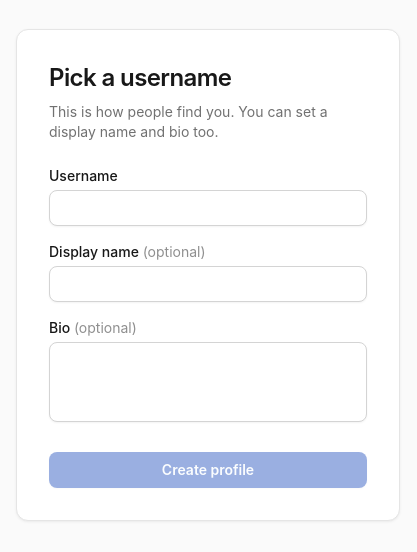
Test: the 'taken' message clears as soon as the user edits the username
Type "ada_lovelace" into the field labelled "Username".
click(208, 208); type("ada_lovelace")  # box [49,190,367,226]
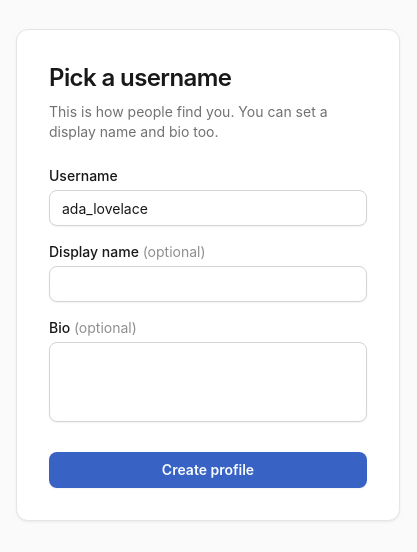
Click the button "Create profile".
click(208, 470)  # box [49,452,367,488]
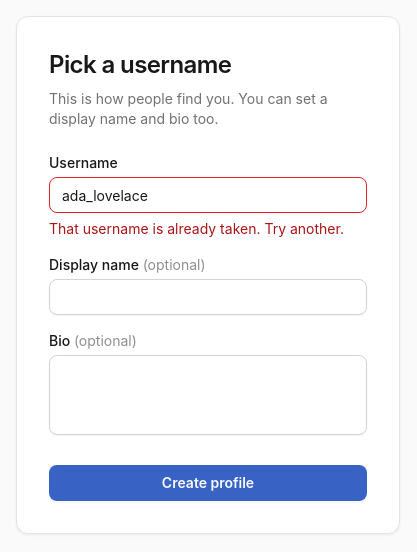
Check: the text "That username is already taken. Try another." is shown, box [49,219,367,239]
Replace the text in the field labelled "Username" with "ada_lovelace2" at (208, 195), box [49,177,367,213]
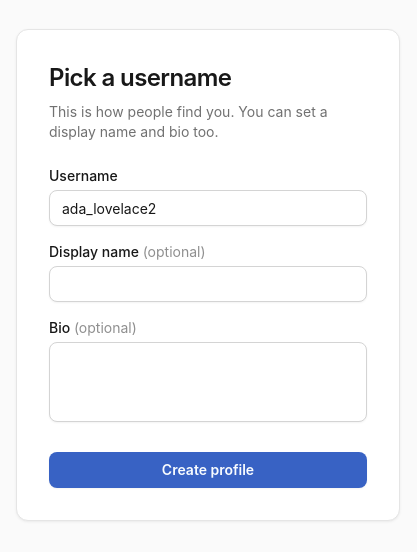
Check: the text "already taken" is gone
